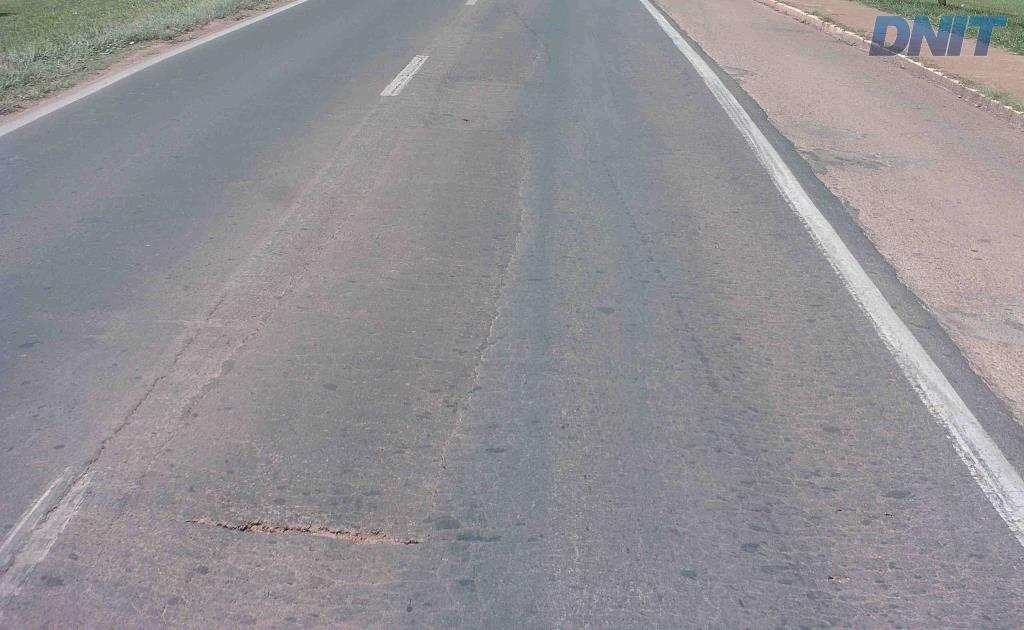pothole: (187, 507, 431, 549)
